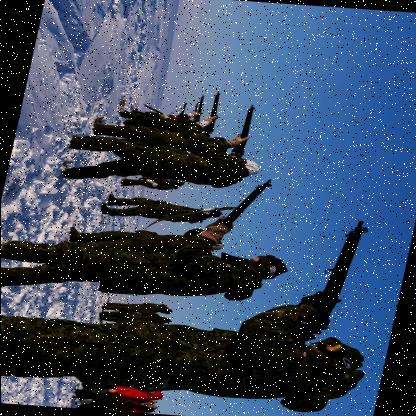rifle: (282, 209, 378, 347), (217, 172, 274, 234), (226, 100, 260, 158), (202, 84, 228, 136)
